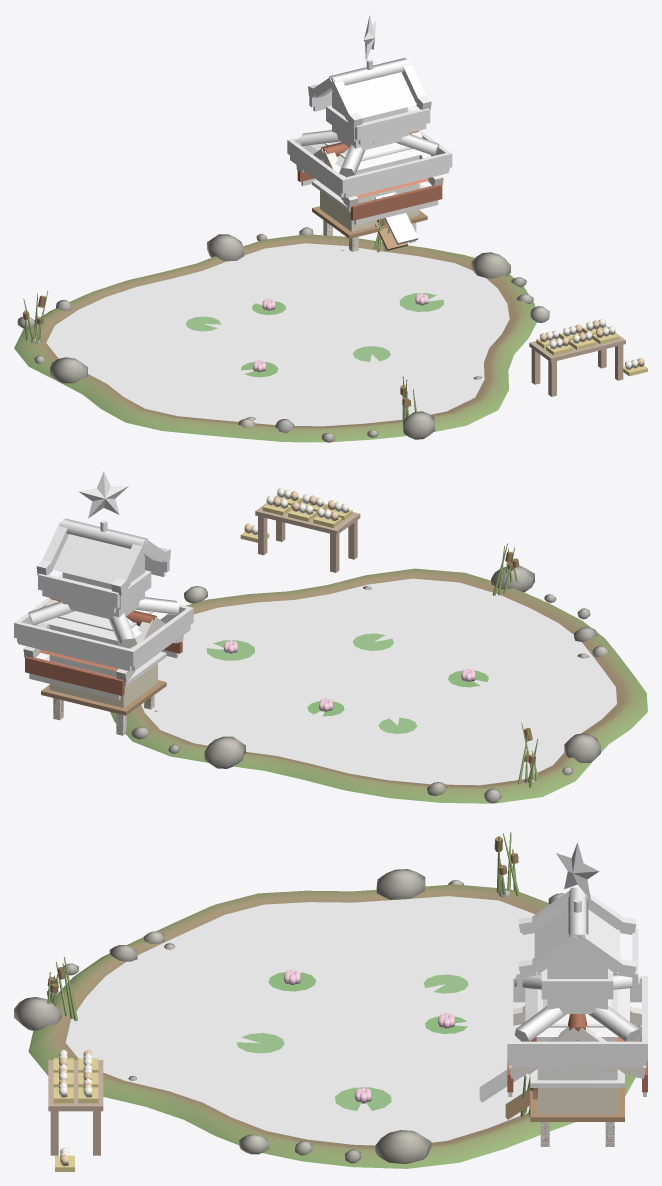
File: duck_pond_1.glb
The picture shows the model from 3 angles, top to bottom: view 1: azimuth 30°, elevation 25°; view 2: azimuth 150°, elevation 25°; view 3: azimuth 270°, elevation 25°; orthographic projection. The views are drawn at different scales.
Visible parts, largest first — view 1: duck_pond_1, when_plan_true, body4, body3; view 2: duck_pond_1, when_plan_true, body4, body3, body, body2; view 3: duck_pond_1, when_plan_true, body4, body3, body2, body.
Boxes of the visible parts, box(x1,y1,x2,y2) form: duck_pond_1: box(14, 130, 536, 442); when_plan_true: box(287, 14, 452, 251); body4: box(17, 130, 625, 442); body3: box(582, 318, 647, 376); duck_pond_1: box(29, 568, 647, 803); when_plan_true: box(14, 471, 193, 735); body4: box(23, 495, 608, 803); body3: box(240, 487, 302, 542); body: box(313, 500, 352, 527); body2: box(288, 493, 327, 521); duck_pond_1: box(28, 884, 646, 1168); when_plan_true: box(479, 842, 647, 1146); body4: box(14, 832, 647, 1163); body3: box(53, 1078, 98, 1171); body2: box(53, 1064, 98, 1087); body: box(53, 1049, 98, 1072).
Size of the model in its own units: 2.7 by 1.28 by 2.54.
